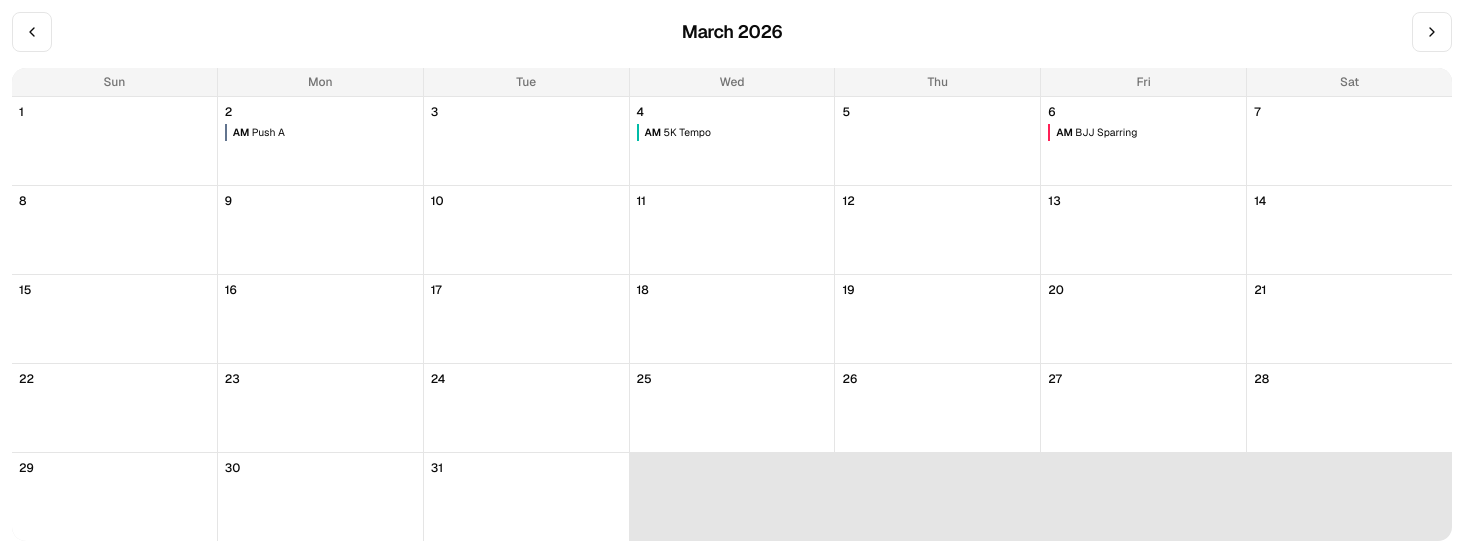
Test: CalendarGrid › navigates to next month
The width and height of the screenshot is (1464, 558).
Expected: the heading "March 2026" is shown, [682,18,782,46]
Click the button named "next" at [1432, 32], box [1412,12,1452,52]
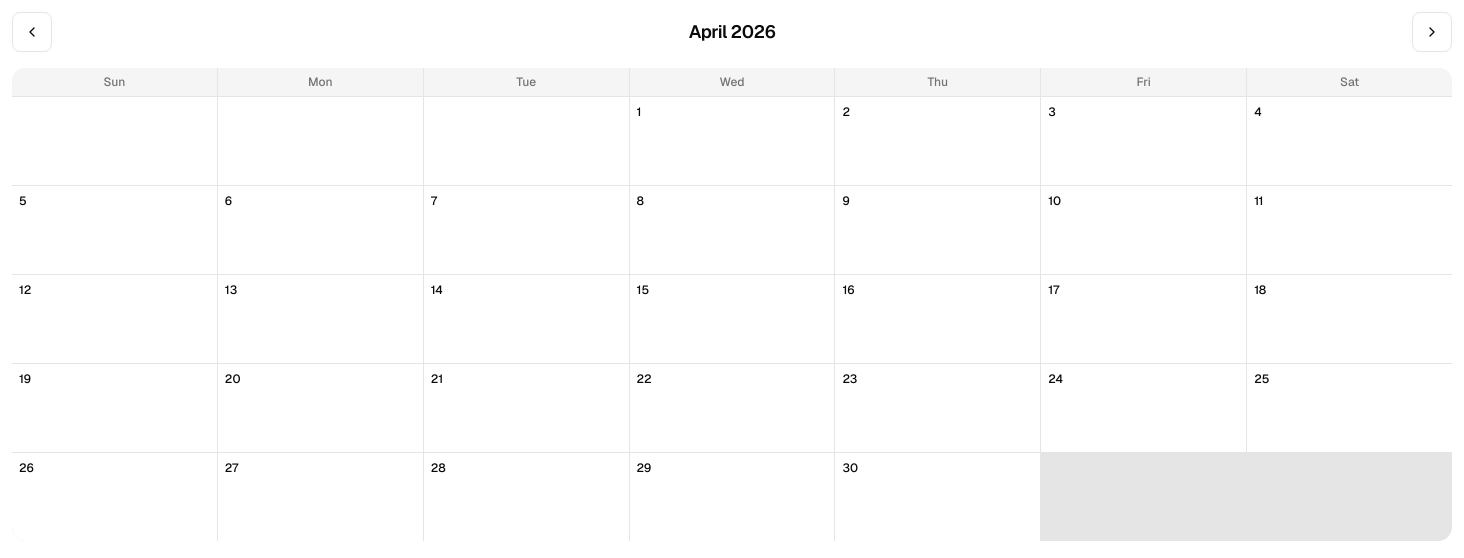
Now the heading "April 2026" is shown, box [689,18,775,46]
